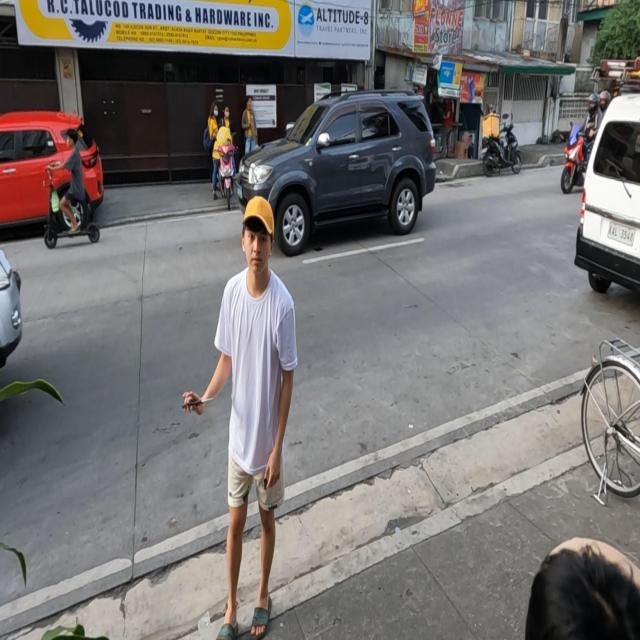scissor: (182, 398, 214, 409)
